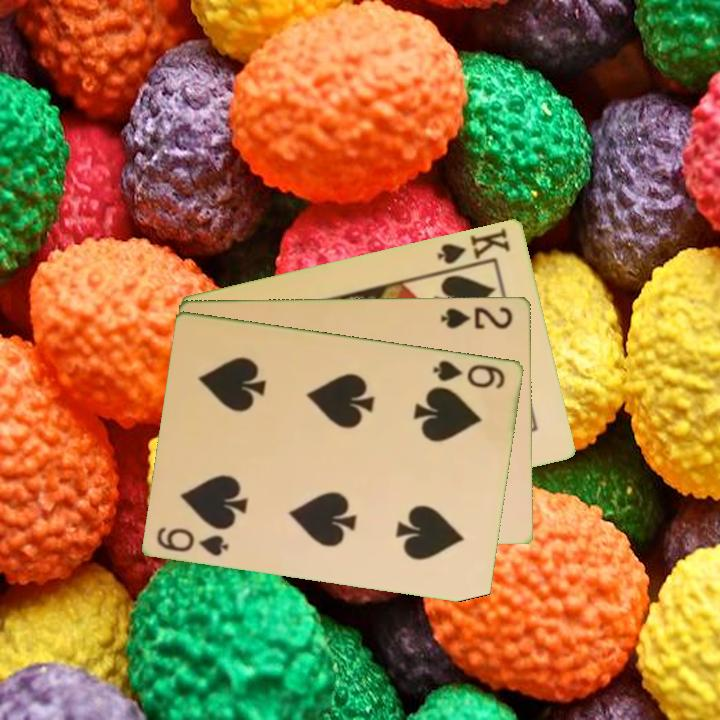2s: (437, 302, 515, 332)
6s: (430, 356, 509, 392), (153, 523, 232, 559)
Ks: (434, 223, 514, 267)
